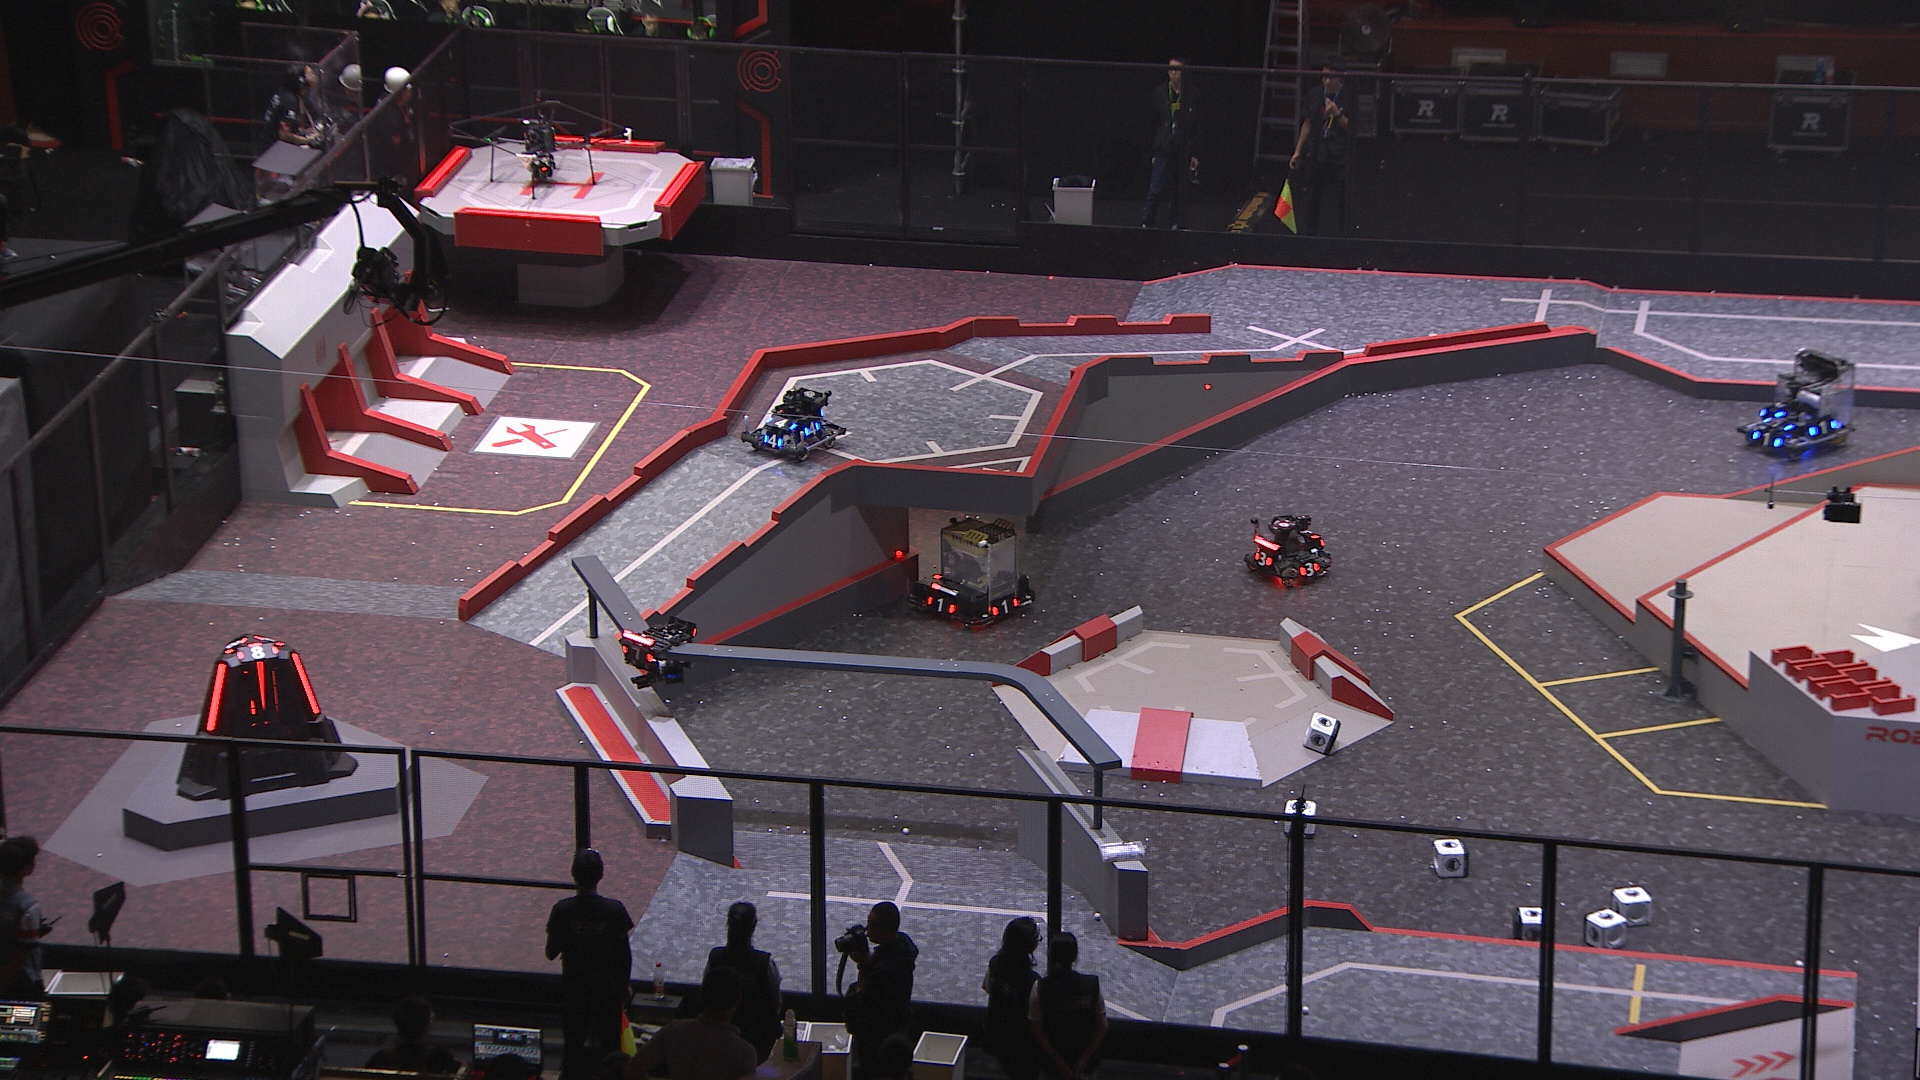armor: (289, 651, 323, 717), (204, 661, 229, 735), (618, 641, 655, 669), (1804, 417, 1841, 439), (229, 644, 280, 659), (1747, 427, 1784, 448), (1759, 413, 1797, 433), (924, 593, 956, 617), (255, 657, 266, 713), (992, 597, 1021, 617), (1251, 549, 1275, 571), (761, 429, 785, 451), (769, 414, 796, 433), (1298, 559, 1323, 578), (222, 636, 243, 655), (1299, 526, 1323, 543), (800, 419, 823, 436), (257, 633, 282, 646)
base: (174, 628, 359, 803)
car: (907, 512, 1043, 633), (1735, 344, 1863, 462), (740, 385, 847, 465), (1237, 506, 1335, 591)
watcher: (615, 608, 698, 688)
